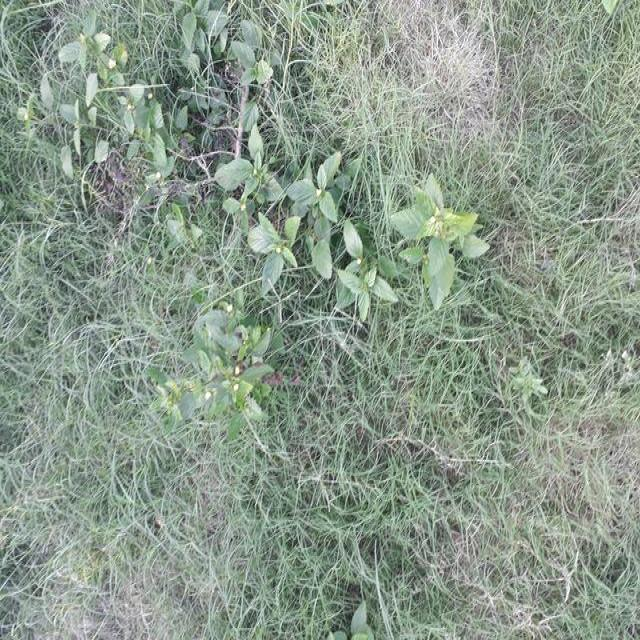weed: (218, 23, 388, 303), (35, 14, 191, 212), (176, 267, 284, 451), (394, 146, 470, 286)
